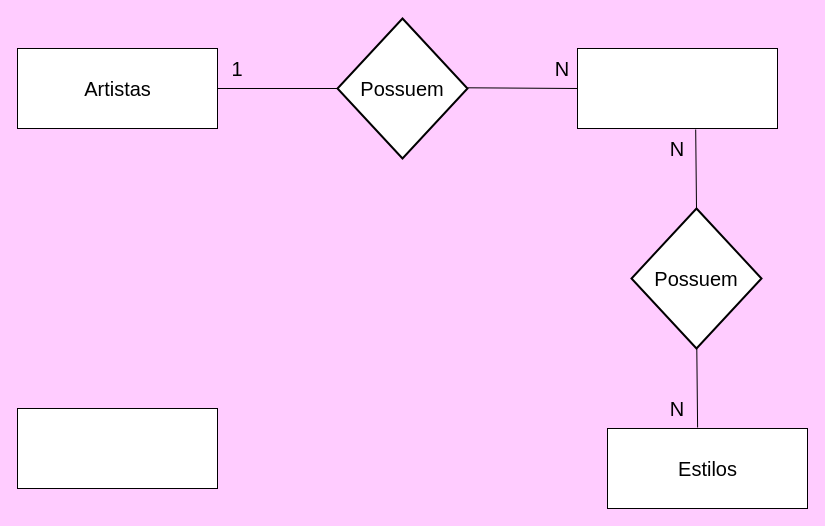
This 825x526 diagram has some shape labels left out. Here are the shapes that lost their labels. From the top down, the centre of each, then its label:
point (677, 88): Albuns
point (117, 448): Usuários
